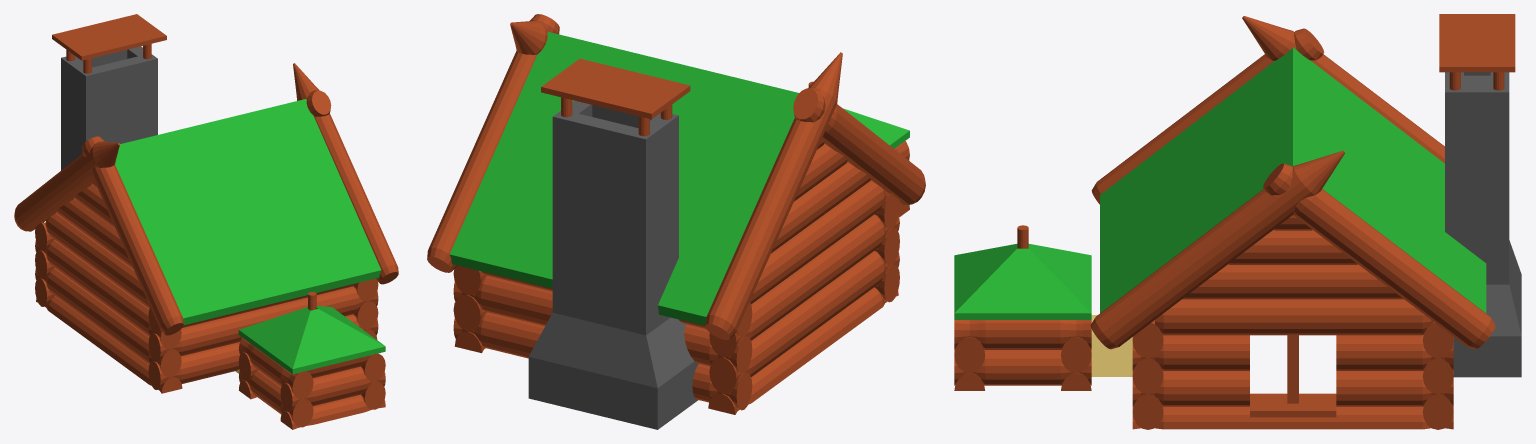
File: beaver-house_structure.glb
3 renders of one model, left to right at view 1: azimuth 30°, elevation 25°; view 2: azimuth 150°, elevation 25°; view 3: azimuth 270°, elevation 25°, orthographic. The views are drawn at different scales.
Visible parts, largest first — view 1: beaver-house_structure; view 2: beaver-house_structure; view 3: beaver-house_structure.
Boxes of the visible parts, x1,y1,x2,y2 form: beaver-house_structure: [14, 14, 398, 429]; beaver-house_structure: [427, 14, 925, 429]; beaver-house_structure: [954, 14, 1521, 429].
Bounding box in the file's own units: 0.7245 × 0.7081 × 1.18.
